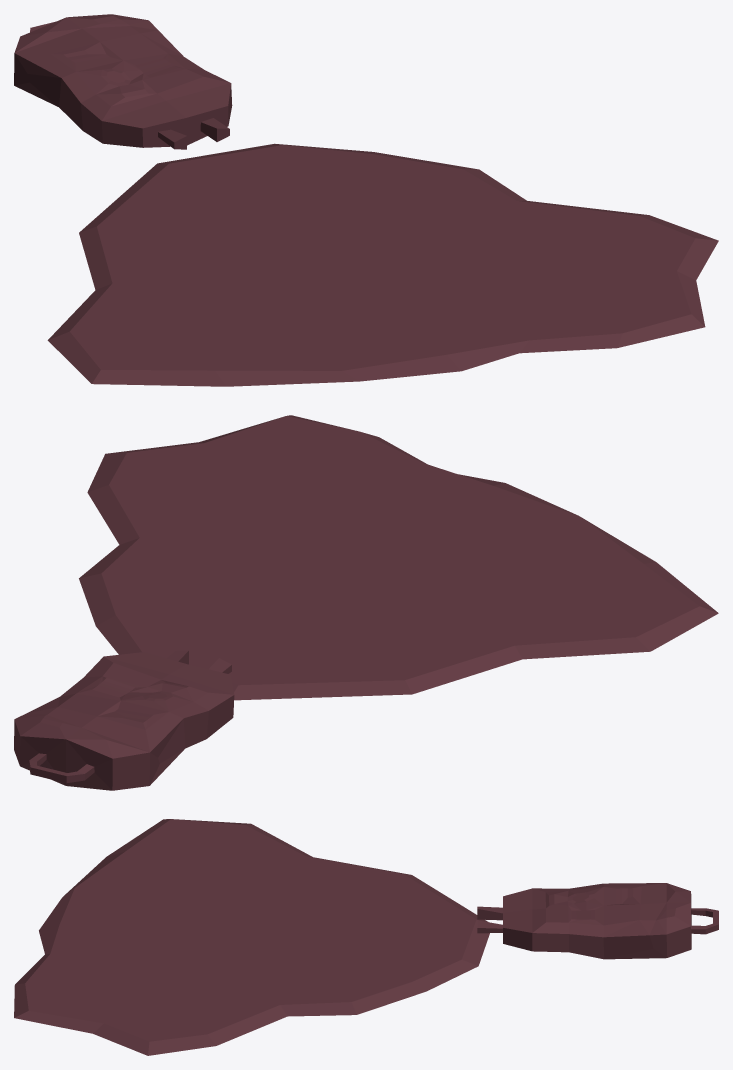
The model's file is apocalypse-blood-bag-spilled.glb.
The picture shows the model from 3 angles, top to bottom: view 1: azimuth 30°, elevation 25°; view 2: azimuth 150°, elevation 25°; view 3: azimuth 270°, elevation 25°; orthographic projection. The views are drawn at different scales.
Visible parts, largest first — view 1: blood-bag-spilled; view 2: blood-bag-spilled; view 3: blood-bag-spilled.
Part boxes in pixels (bbox=[...]): blood-bag-spilled: bbox=[14, 14, 718, 386]; blood-bag-spilled: bbox=[14, 415, 718, 790]; blood-bag-spilled: bbox=[14, 819, 718, 1055].
Size of the model in its own units: 0.5988 by 0.0441 by 0.7537.
